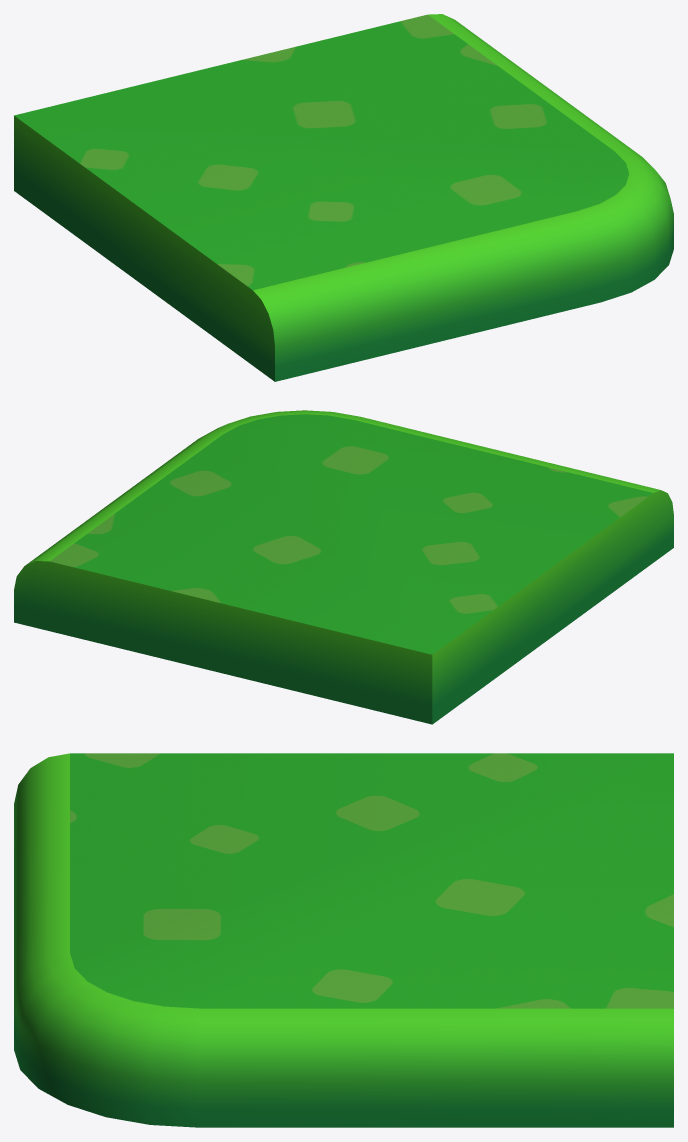
File: GrassFloor_Corner_2.glb
The picture shows the model from 3 angles, top to bottom: view 1: azimuth 30°, elevation 25°; view 2: azimuth 150°, elevation 25°; view 3: azimuth 270°, elevation 25°; orthographic projection. The views are drawn at different scales.
Visible parts, largest first — view 1: GrassFloor_Corner_2; view 2: GrassFloor_Corner_2; view 3: GrassFloor_Corner_2.
Boxes of the visible parts, bbox=[...] form: GrassFloor_Corner_2: bbox=[14, 14, 673, 381]; GrassFloor_Corner_2: bbox=[14, 410, 673, 724]; GrassFloor_Corner_2: bbox=[14, 753, 673, 1127].
Bounding box in the file's own units: 2 × 0.3187 × 2.
Materials: 2 (2 with a texture image).
